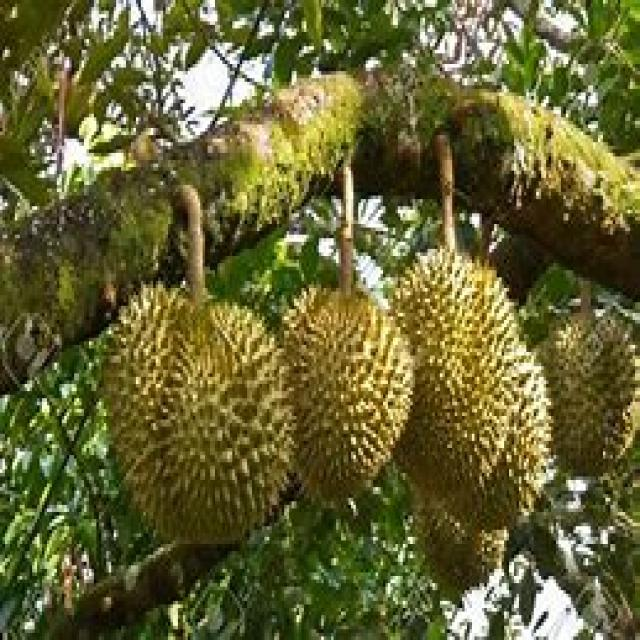mature: (104, 287, 299, 553), (383, 245, 522, 509), (275, 289, 418, 510)
